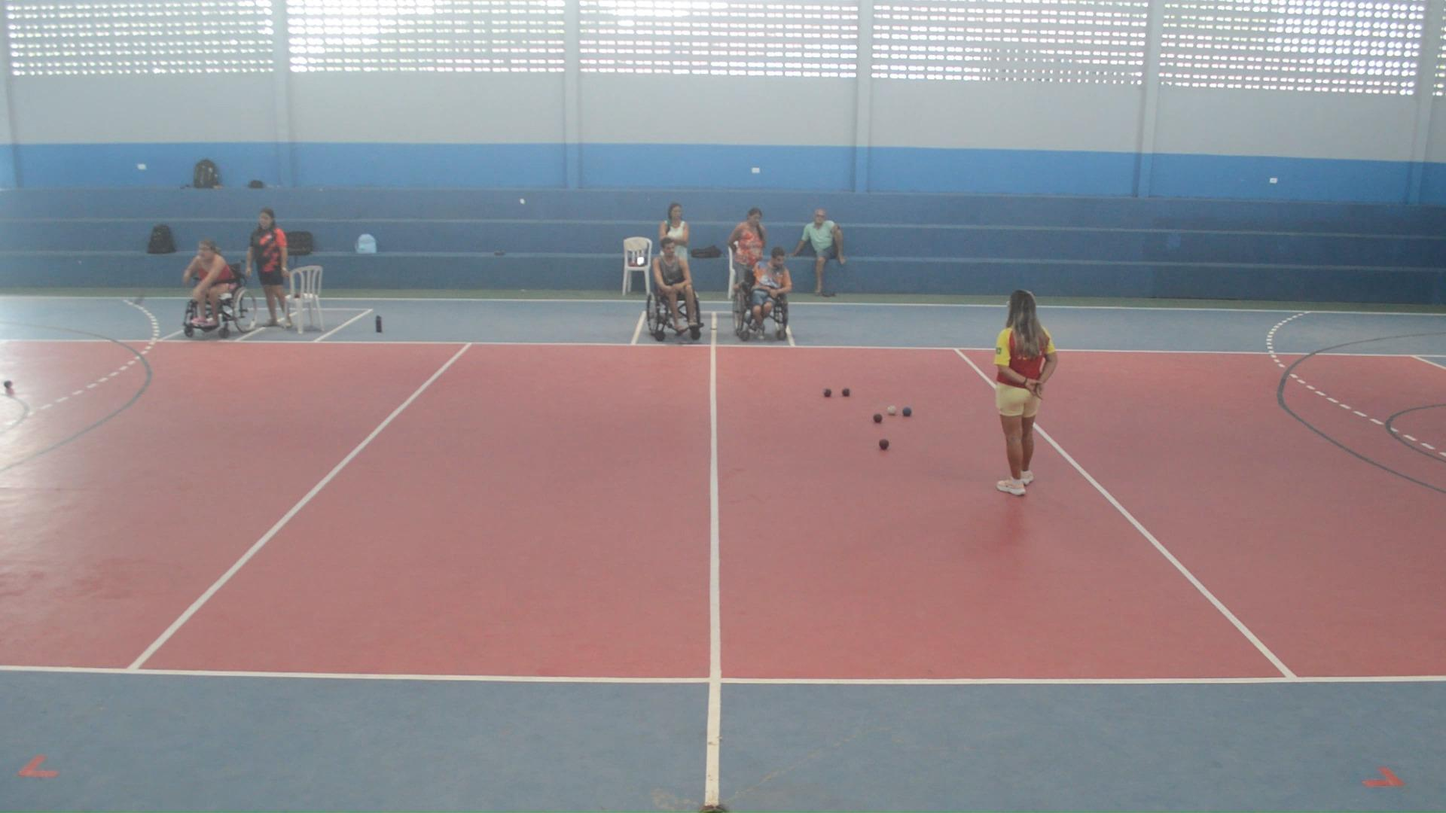blue_ball: (902, 406, 913, 417)
red_ball: (878, 437, 890, 450), (822, 388, 834, 399), (872, 413, 883, 423), (841, 387, 851, 397)
white_ball: (887, 405, 897, 416)
